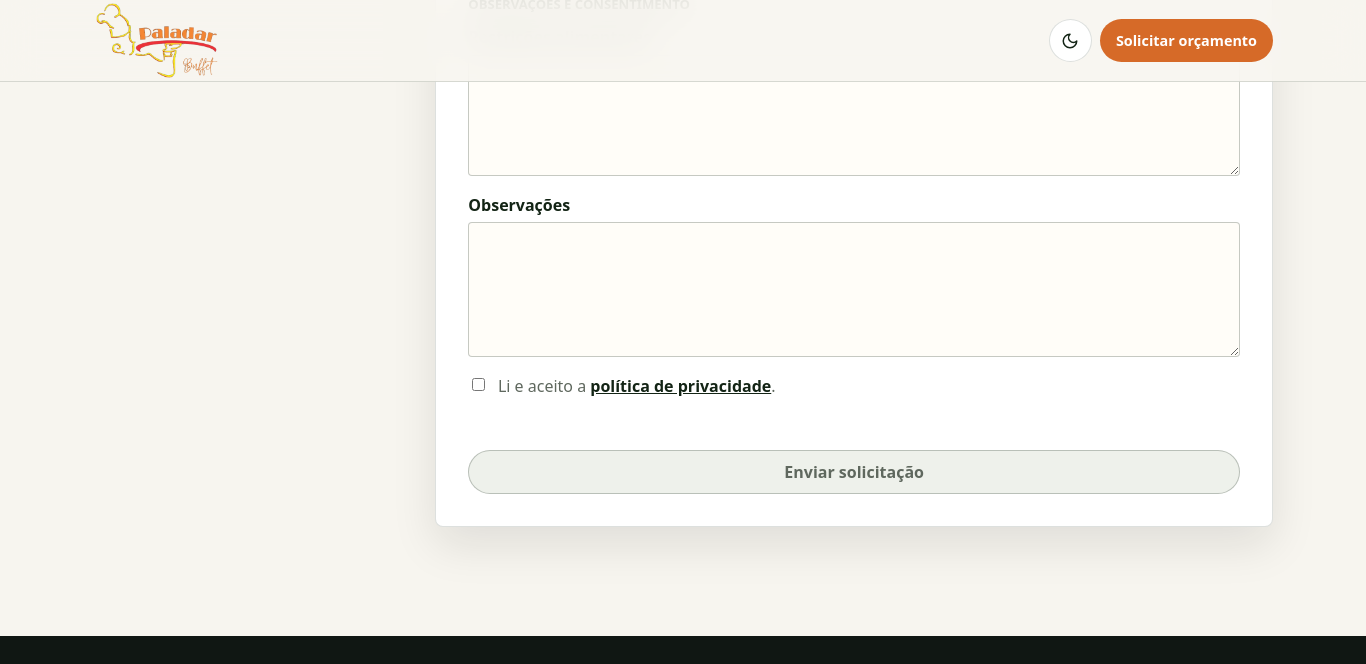
Scenario: QuotePage › validates required public quote fields with client-friendly messages
The image size is (1366, 664).
(page scrolled)
Click the checkbox labelled "Li e aceito a política de privacidade ." at (479, 384), box [472,378,485,391]
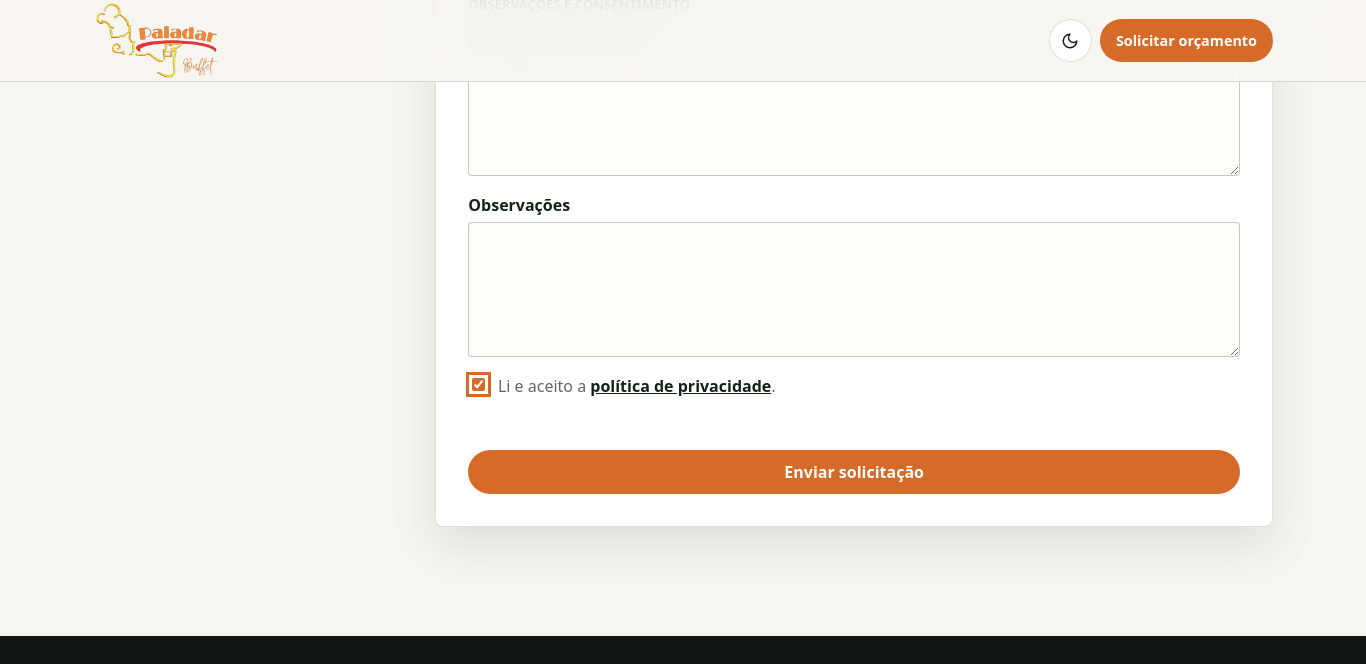
Click the button "Enviar solicitação" at (854, 472), box [468,450,1240,494]
(page scrolled)
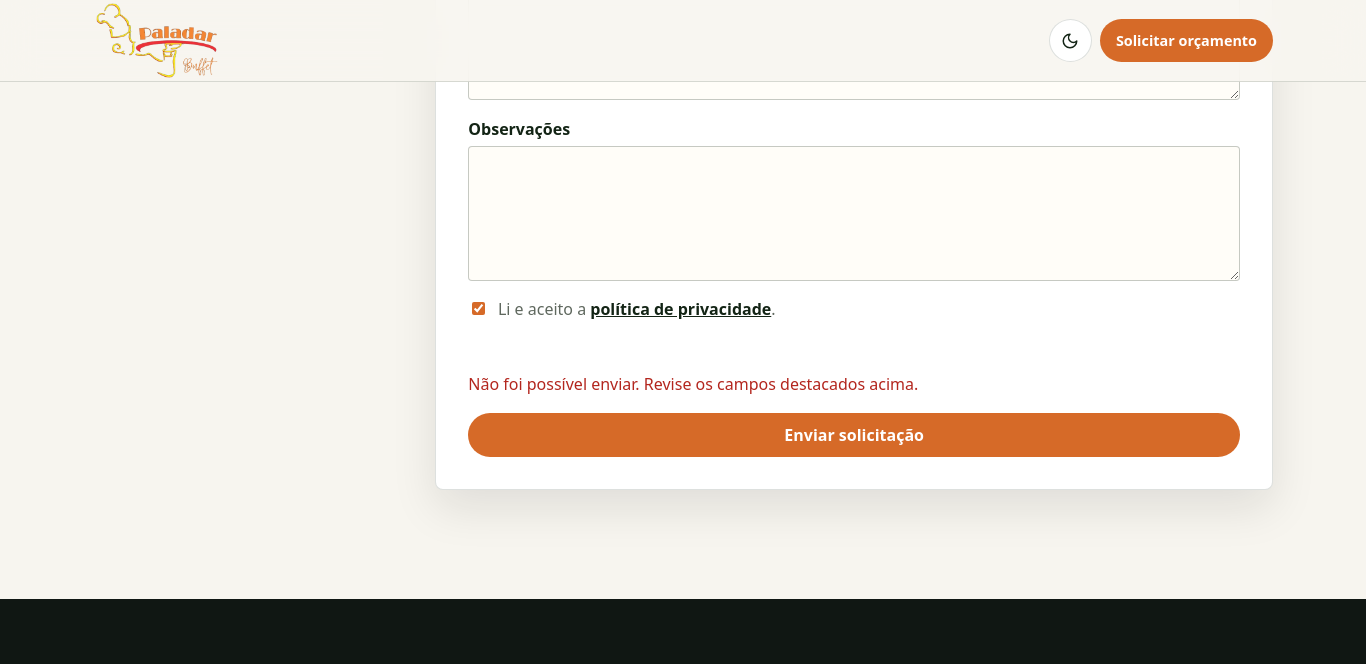
Check: the message reads "Não foi possível enviar. Revise os campos destacados acima.", box [468,373,918,395]
